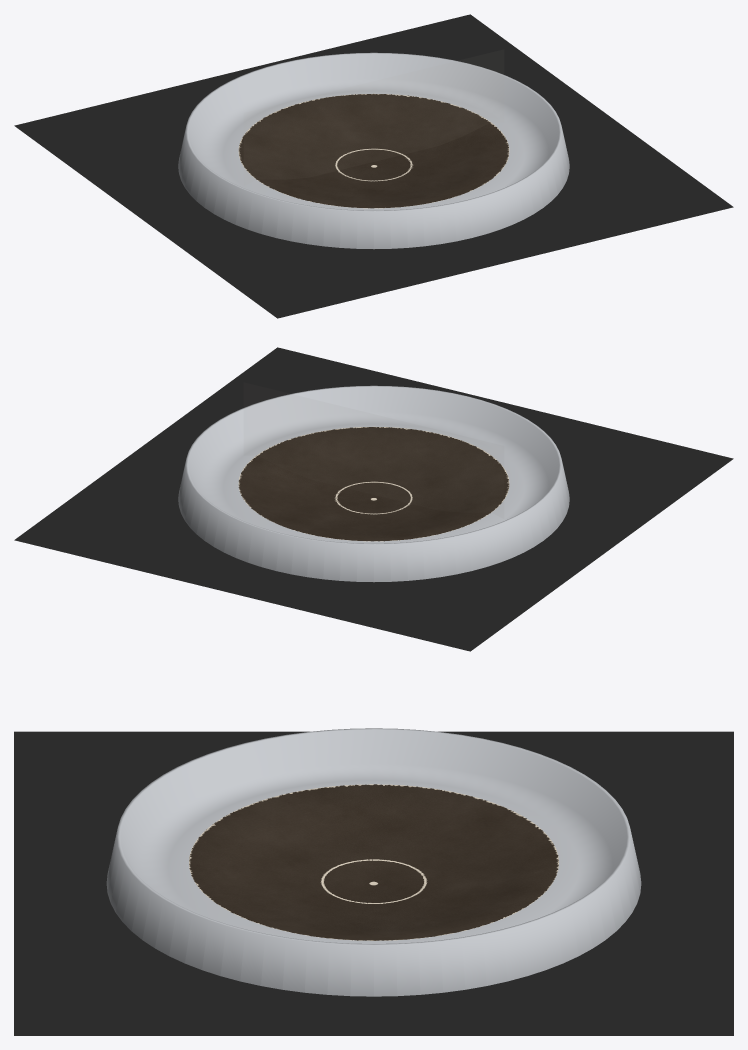
Rendered from taya_circle.glb.
3 renders of one model, top to bottom at view 1: azimuth 30°, elevation 25°; view 2: azimuth 150°, elevation 25°; view 3: azimuth 270°, elevation 25°, orthographic. The views are drawn at different scales.
Parts seen in each view (by area): view 1: stadium_taya_circle, shadow_catcher_taya_circle; view 2: stadium_taya_circle, shadow_catcher_taya_circle; view 3: stadium_taya_circle, shadow_catcher_taya_circle.
Boxes of the visible parts, x1=… form: stadium_taya_circle: x1=178, y1=52, x2=569, y2=249; shadow_catcher_taya_circle: x1=14, y1=14, x2=733, y2=318; stadium_taya_circle: x1=178, y1=385, x2=569, y2=582; shadow_catcher_taya_circle: x1=14, y1=347, x2=733, y2=651; stadium_taya_circle: x1=106, y1=728, x2=641, y2=996; shadow_catcher_taya_circle: x1=14, y1=731, x2=733, y2=1035.
Size of the model in its own units: 420 by 75.05 by 420.
4 materials, 1 textured.
